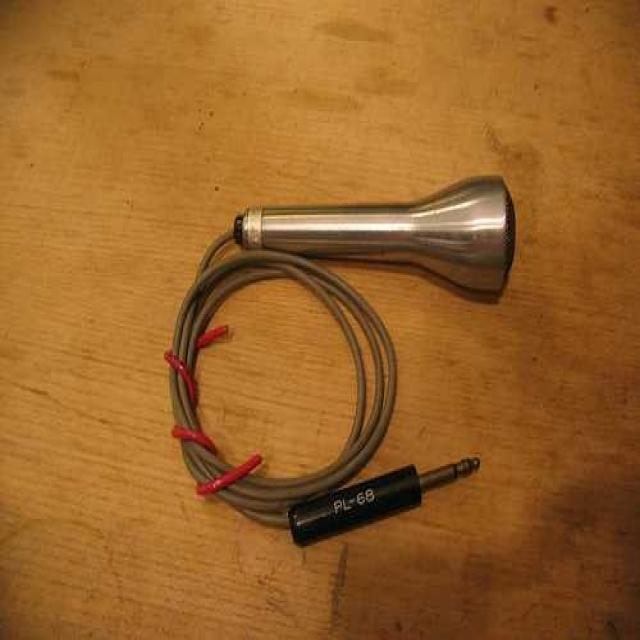microphone: (237, 173, 516, 298)
